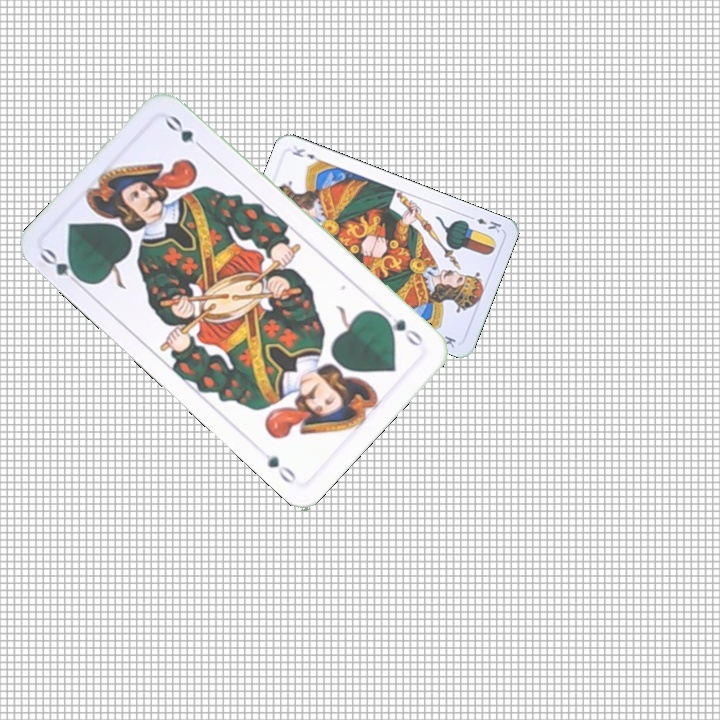EK: (464, 211, 504, 235)
GO: (36, 244, 89, 291), (376, 309, 426, 349)
